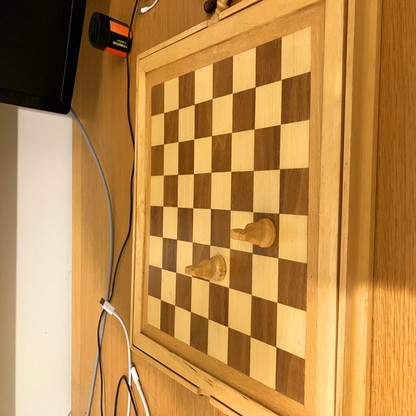knight_white: (229, 219, 276, 248), (185, 257, 227, 280)
